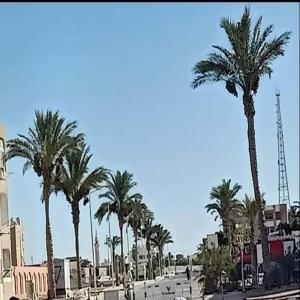palm tree: (190, 3, 292, 288), (4, 107, 85, 298), (52, 139, 111, 289), (97, 169, 141, 277), (123, 193, 153, 280), (150, 225, 173, 276)
